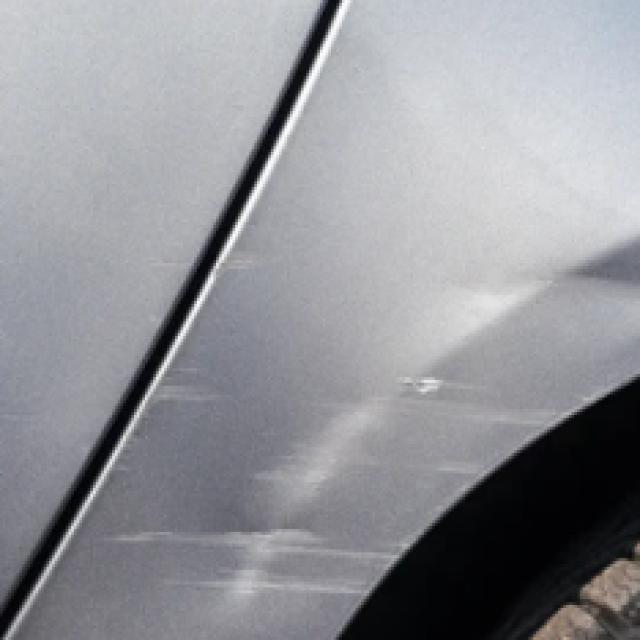scratch: (98, 473, 414, 613), (299, 370, 580, 478), (100, 334, 297, 442)
